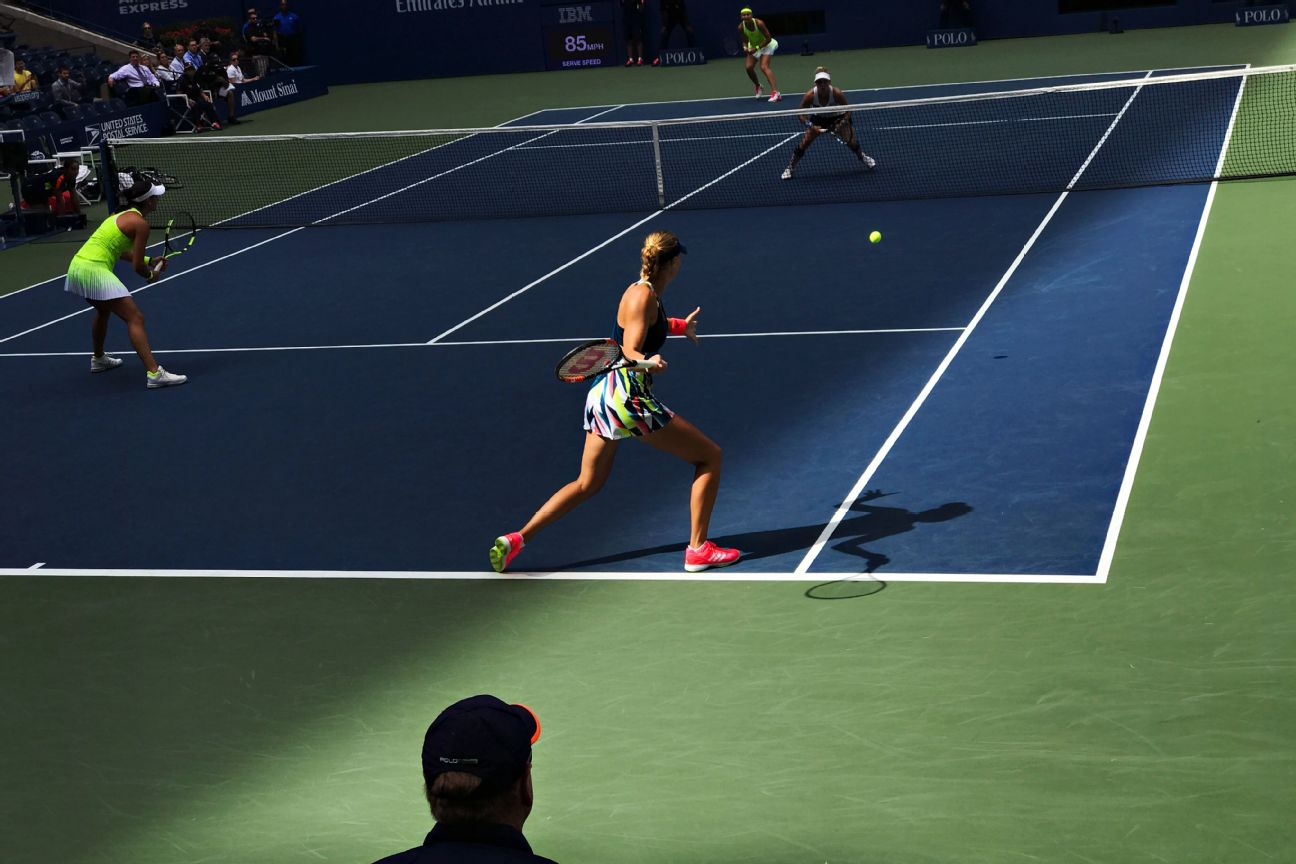tennis_ball: (863, 227, 886, 246)
